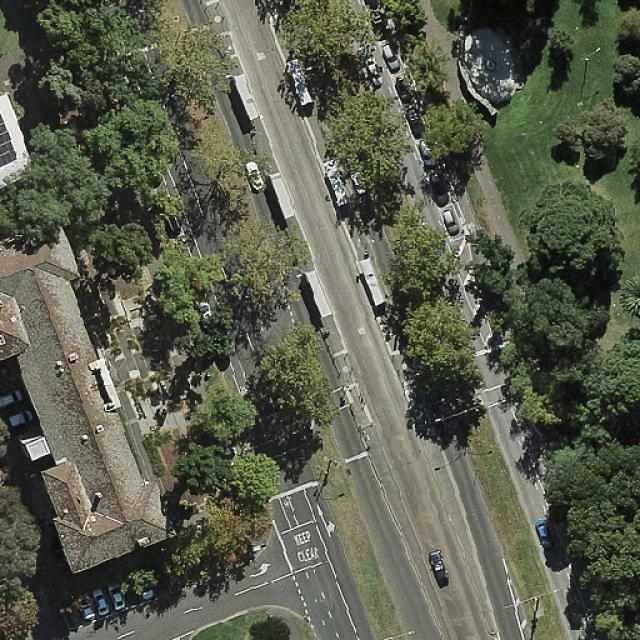Bike-Symbols: (238, 385, 249, 395), (468, 222, 476, 233), (284, 500, 290, 509)
